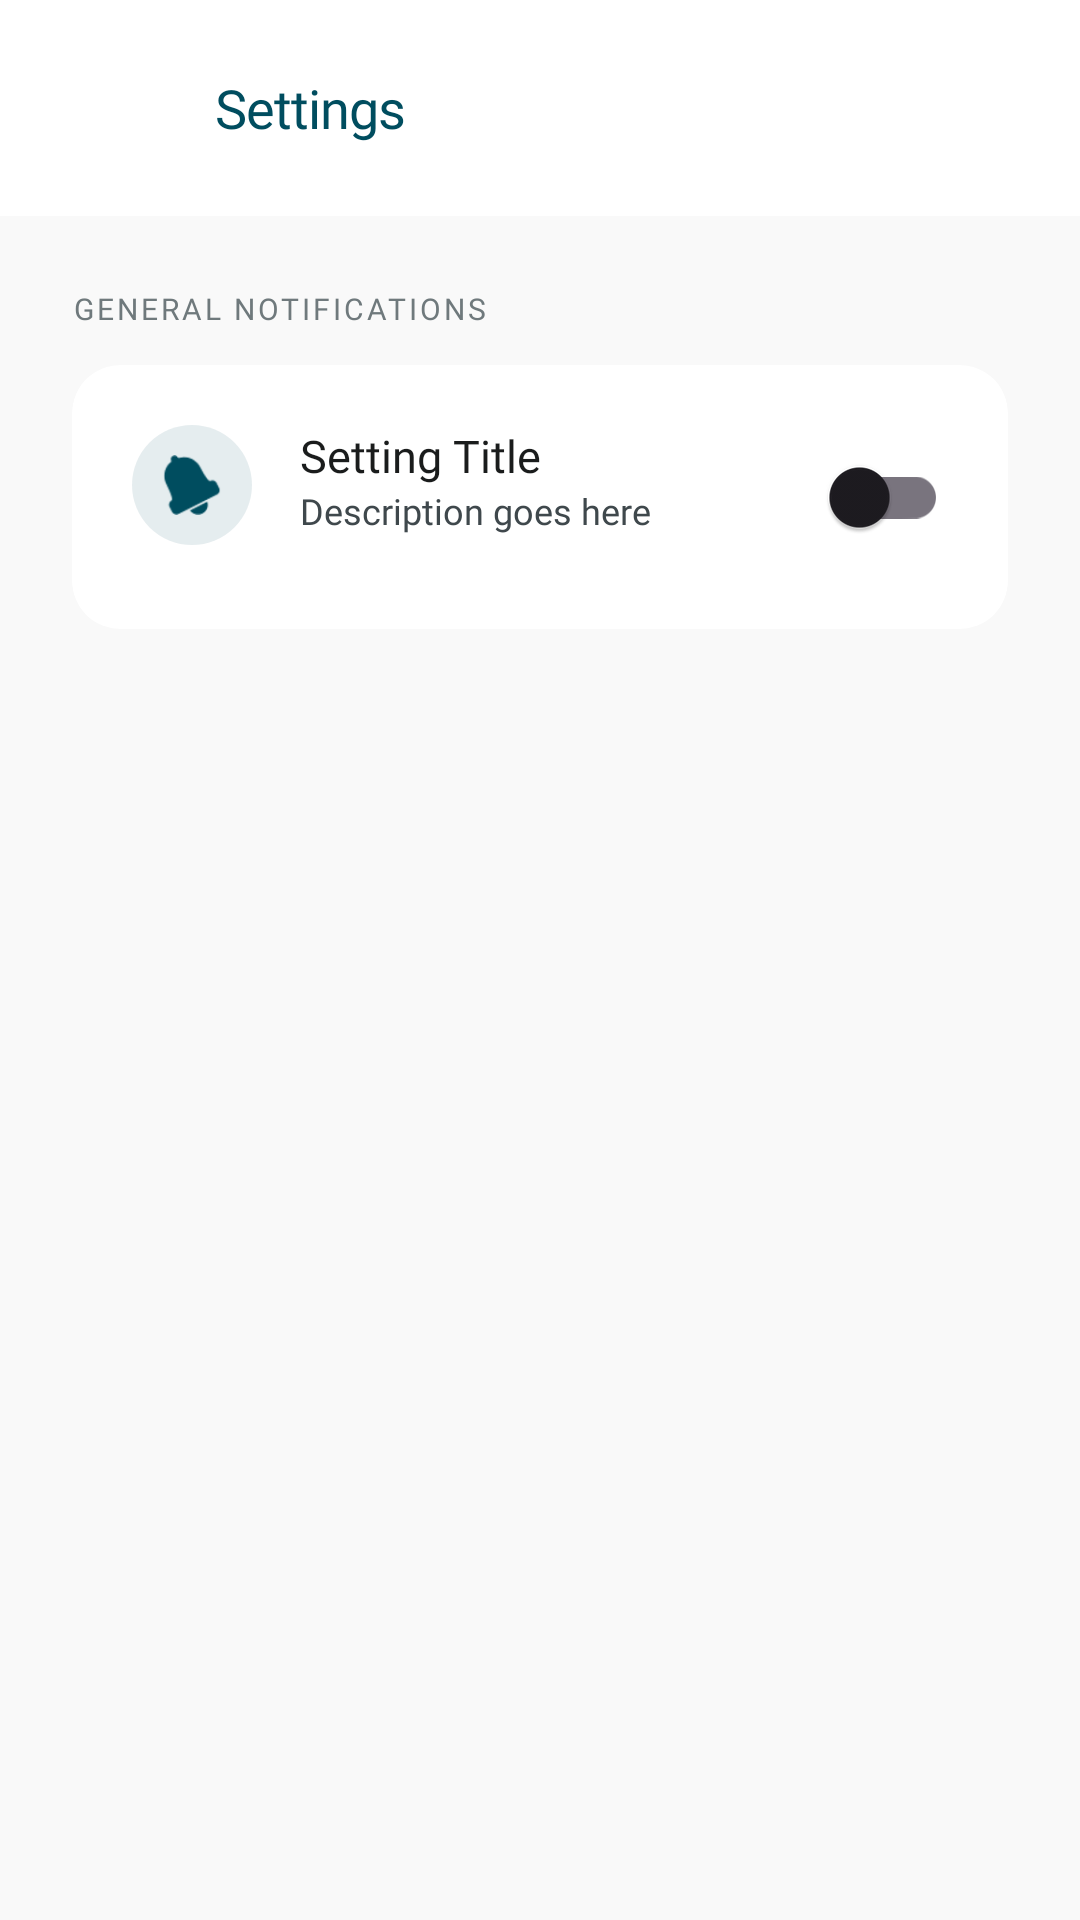

Locate icon controls on the screen. Image size 1080px x 1920px, boxes as (x1, y1, x2, y2).
popup reminder: (132, 425, 252, 545)
